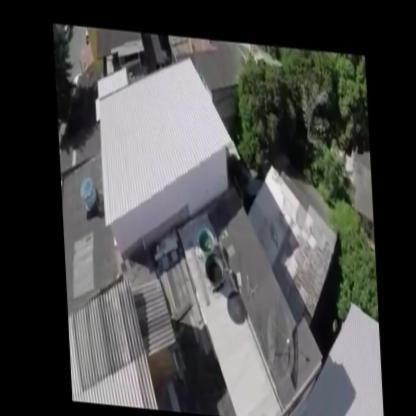agua: (203, 250, 220, 281), (194, 222, 212, 247)
